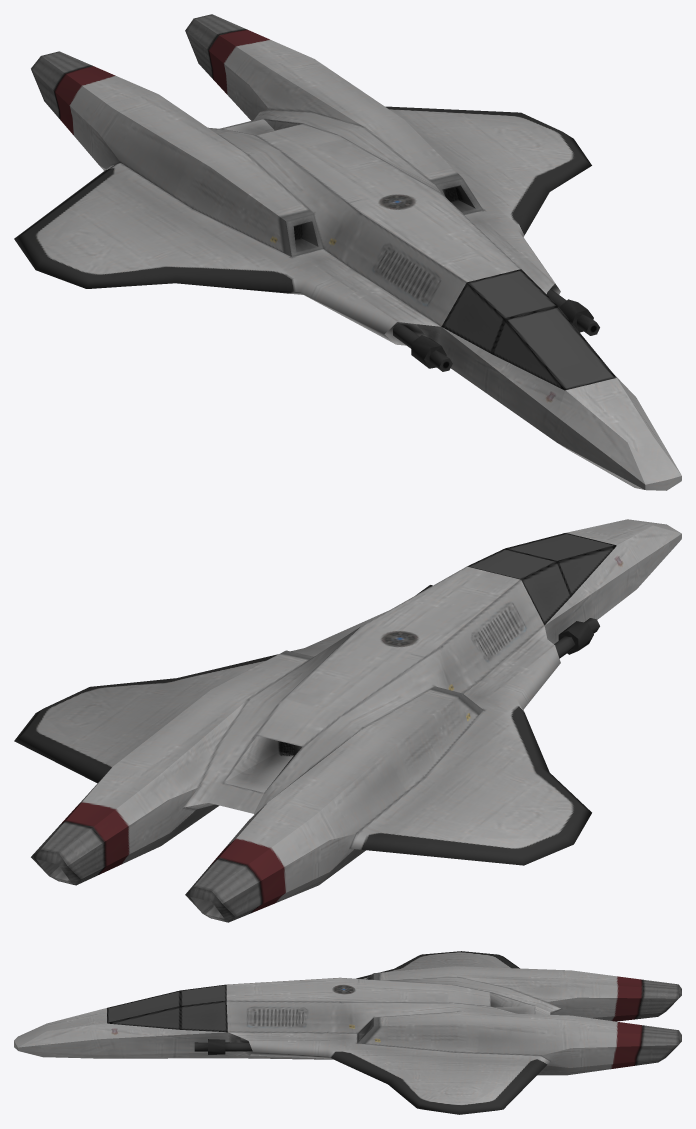
File: ship-1.obj
3 renders of one model, top to bottom at view 1: azimuth 30°, elevation 25°; view 2: azimuth 150°, elevation 25°; view 3: azimuth 270°, elevation 25°, orthographic. The views are drawn at different scales.
Visible parts, largest first — view 1: group1 polySurface34, group1 polySurface67, group1 polySurface68 open; view 2: group1 polySurface34, group1 polySurface68 open, group1 polySurface67; view 3: group1 polySurface34, group1 polySurface67, group1 polySurface68 open, polySurface49 group1, group1 open polySurface48.
Boxes of the visible parts, x1,y1,x2,y2 form: group1 polySurface34: (14, 14, 681, 490); group1 polySurface67: (492, 307, 614, 389); group1 polySurface68 open: (443, 270, 556, 352); group1 polySurface34: (14, 519, 681, 922); group1 polySurface68 open: (469, 549, 570, 623); group1 polySurface67: (508, 533, 615, 594); group1 polySurface34: (14, 951, 681, 1114); group1 polySurface67: (107, 991, 179, 1029); group1 polySurface68 open: (181, 985, 226, 1031); polySurface49 group1: (107, 990, 180, 1029); group1 open polySurface48: (180, 984, 227, 1032).
Bounding box in the file's own units: 7.09 × 1.32 × 12.38.
Materials: 3 (3 with a texture image).
